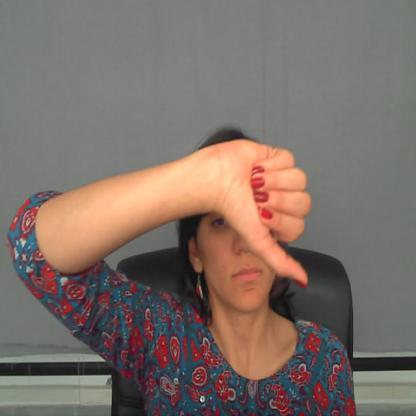thumbs-down: (221, 142, 317, 288)
